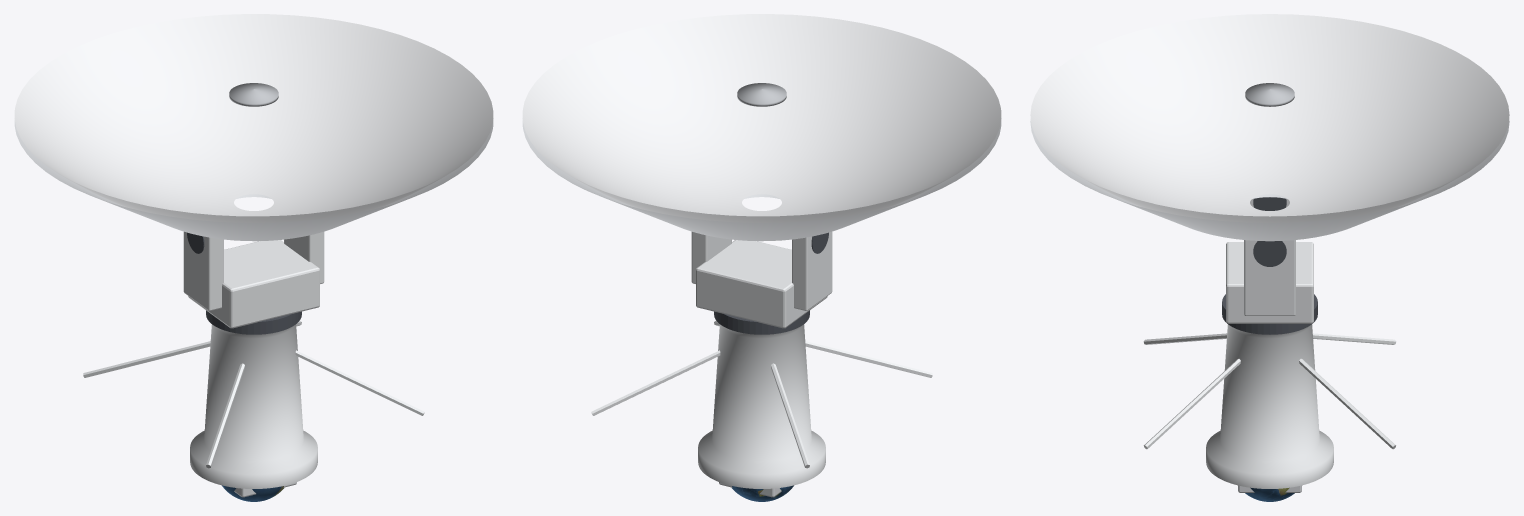
The model's file is vlbisim_assets.glb.
3 renders of one model, left to right at view 1: azimuth 30°, elevation 25°; view 2: azimuth 150°, elevation 25°; view 3: azimuth 270°, elevation 25°, orthographic.
Visible parts, largest first — view 1: Ant12_Reflector, Ant12_Pedestal, Ant12_AZ_Paint_White, Ant12_EL_Paint_White2, Ant12_EL_Paint_White, Ant12_AzBearing, Ant12_Sub; view 2: Ant12_Reflector, Ant12_Pedestal, Ant12_AZ_Paint_White, Ant12_EL_Paint_White2, Ant12_EL_Paint_White, Ant12_AzBearing, Ant12_Sub; view 3: Ant12_Reflector, Ant12_Pedestal, Ant12_AZ_Paint_White, Ant12_EL_Paint_White2, Ant12_EL_Paint_White, Ant12_AZ_Dark_Metal, Ant12_Sub, Ant12_AzBearing.
Boxes of the visible parts, x1,y1,x2,y2 form: Ant12_Reflector: [14, 14, 493, 222]; Ant12_Pedestal: [190, 324, 317, 488]; Ant12_AZ_Paint_White: [183, 231, 324, 328]; Ant12_EL_Paint_White2: [14, 120, 493, 497]; Ant12_EL_Paint_White: [83, 320, 424, 468]; Ant12_AzBearing: [206, 310, 301, 334]; Ant12_Sub: [229, 83, 278, 106]; Ant12_Reflector: [522, 14, 1001, 222]; Ant12_Pedestal: [698, 324, 825, 488]; Ant12_AZ_Paint_White: [691, 231, 832, 328]; Ant12_EL_Paint_White2: [522, 120, 1001, 497]; Ant12_EL_Paint_White: [591, 320, 932, 468]; Ant12_AzBearing: [714, 310, 809, 334]; Ant12_Sub: [737, 83, 786, 106]; Ant12_Reflector: [1030, 14, 1509, 222]; Ant12_Pedestal: [1206, 324, 1333, 488]; Ant12_AZ_Paint_White: [1226, 199, 1313, 323]; Ant12_EL_Paint_White2: [1030, 119, 1509, 492]; Ant12_EL_Paint_White: [1143, 333, 1396, 449]; Ant12_AZ_Dark_Metal: [1253, 197, 1286, 266]; Ant12_Sub: [1245, 83, 1294, 106]; Ant12_AzBearing: [1222, 294, 1317, 334].
Size of the model in its own units: 12 by 11.3 by 12.
Materials: 15 (1 with a texture image).
